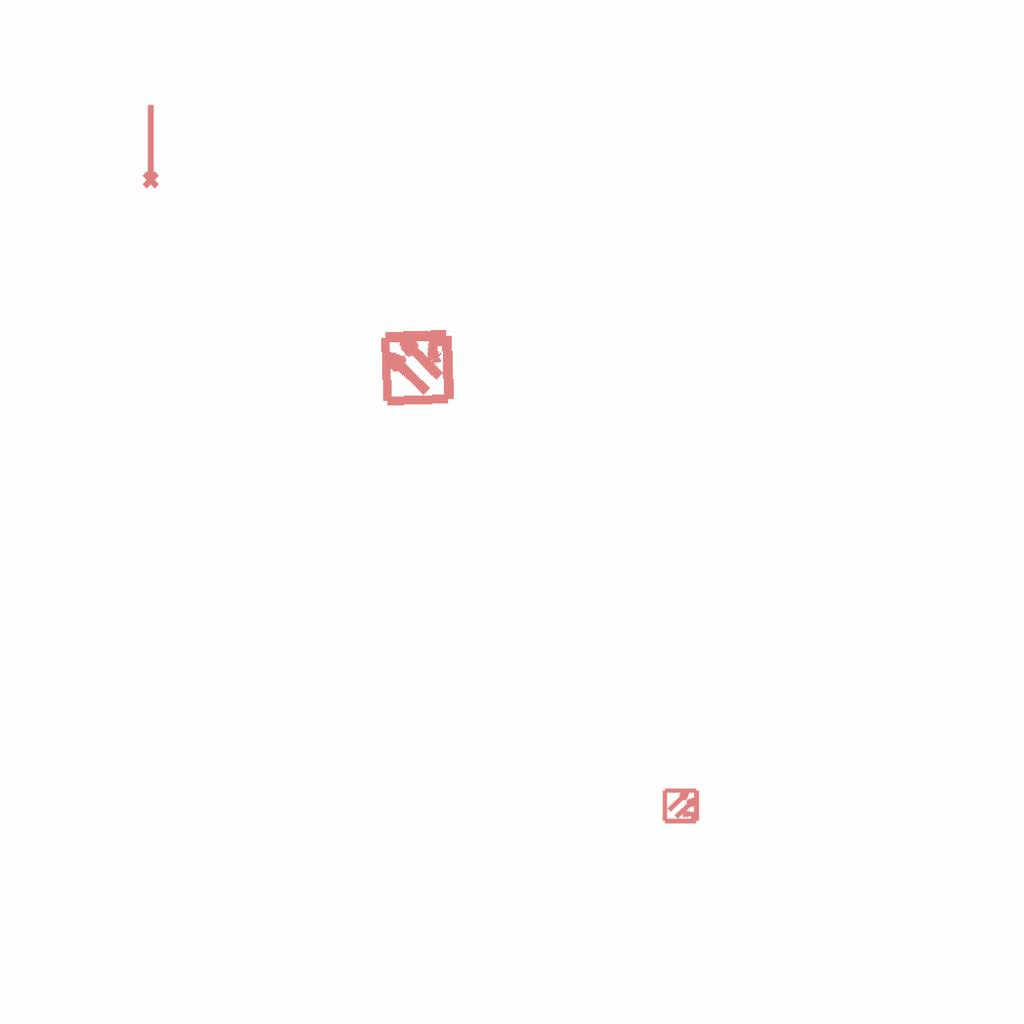ASR_Ansaugoeffnung: (138, 102, 161, 190)
OT_Multisensormelder_(Kombination_RMO_WMD): (359, 307, 476, 424), (654, 778, 710, 834)
